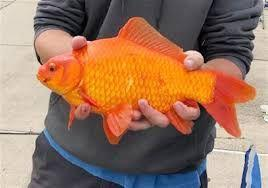Gold Fish: (39, 16, 264, 167)
